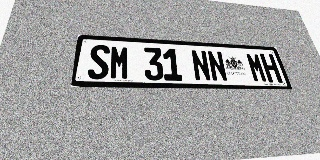1: (162, 48, 182, 81)
3: (144, 47, 164, 81)
H: (259, 53, 283, 83)
M: (109, 45, 129, 80), (245, 53, 268, 82)
N: (206, 51, 229, 82), (190, 50, 212, 81)
S: (87, 44, 110, 80)
